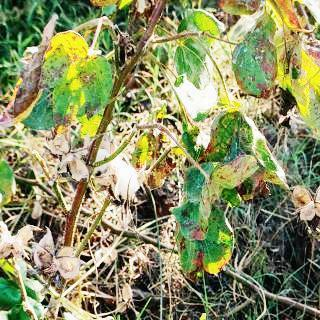blight: (163, 135, 272, 280), (230, 17, 291, 105)
leaf spot: (41, 19, 117, 138)
